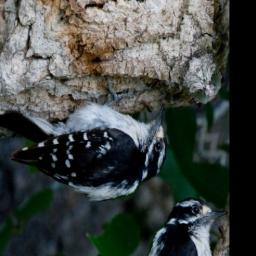Woodpecker: (0, 0, 189, 256)
